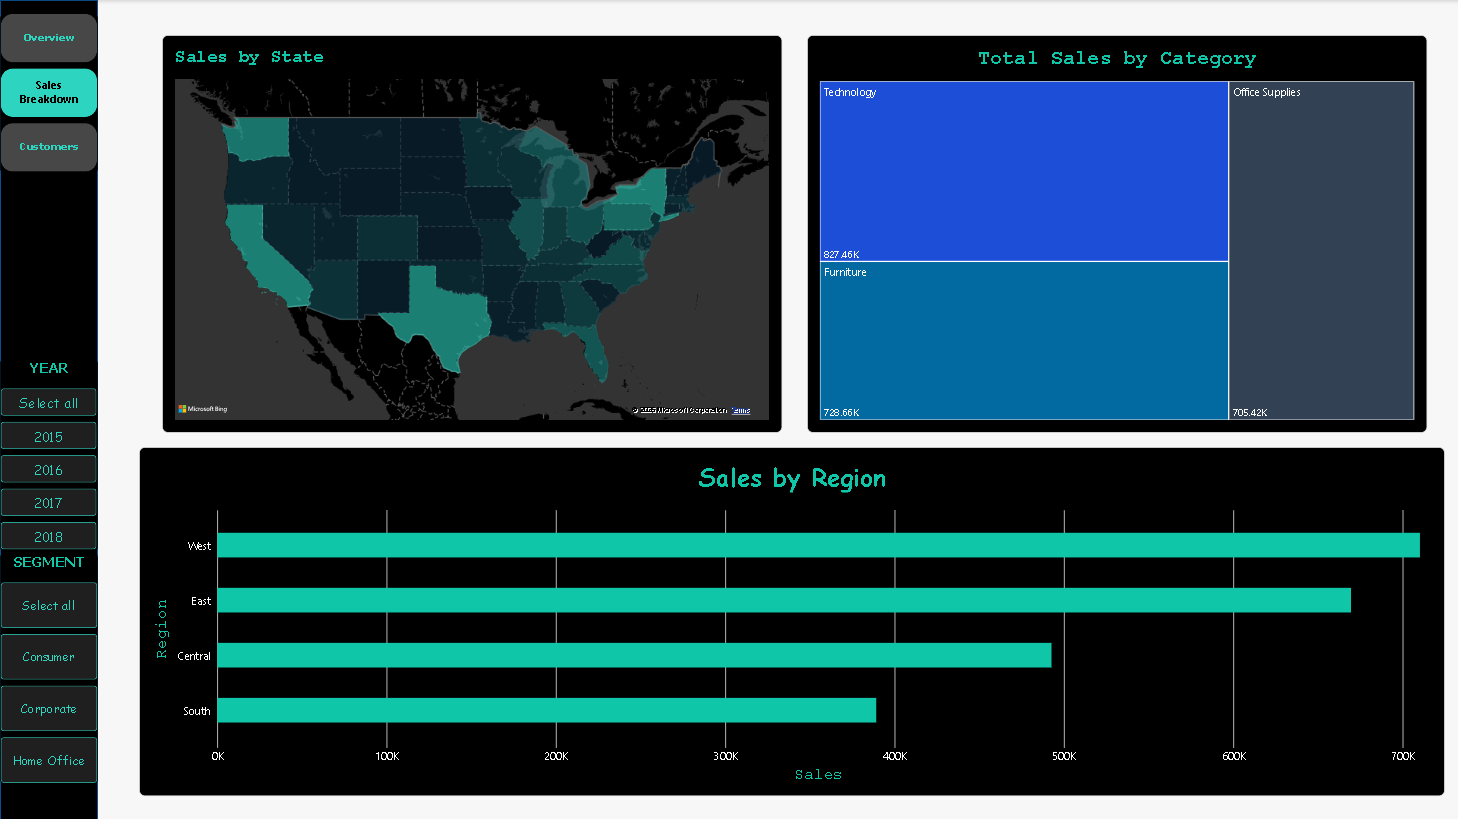

Layout of this report page (visuals, bound fields, positions):
{"tool":"powerbi","page":{"name":"Sales Breakdown","canvas":[1920,1080],"ordinal":1},"visuals":[{"type":"shape","box":[0,0,129.1,1080],"z":0},{"type":"barChart","title":"Sales by Region","fields":{"Category":["superstore_db superstore_sales.region"],"Y":["Sum(superstore_db superstore_sales.sales)"]},"box":[183.1,588.7,1720.1,459.7],"z":1000},{"type":"filledMap","title":"Sales by State","fields":{"Category":["superstore_db superstore_sales.state"]},"box":[213.4,46.1,816.6,524.2],"z":2000},{"type":"treemap","fields":{"Group":["superstore_db superstore_sales.category"],"Values":["Sum(superstore_db superstore_sales.sales)"]},"box":[1062.9,46.1,816.6,524.2],"z":3000},{"type":"pageNavigator","box":[0,17.2,129.1,212],"z":4001},{"type":"advancedSlicerVisual","title":"YEAR","fields":{"Values":["superstore_db superstore_sales.order_date.Variation.Date Hierarchy.Year"]},"box":[0,471.7,128.5,255.7],"z":4002},{"type":"advancedSlicerVisual","title":"SEGMENT","fields":{"Values":["superstore_db superstore_sales.segment"]},"box":[0,727.5,129.1,306.9],"z":4003}]}

Visuals, with their boxes in screenshot pixels (x1, y1, x2, y2), scaled from the page's 1920x1080 canvas onto the 1458x819 screenshot:
shape: locate(0, 0, 98, 818)
"Sales by Region" barChart: locate(139, 446, 1445, 795)
"Sales by State" filledMap: locate(162, 35, 782, 432)
treemap - superstore_db superstore_sales.category x Sum(superstore_db superstore_sales.sales): locate(807, 35, 1427, 432)
pageNavigator: locate(0, 13, 98, 174)
"YEAR" advancedSlicerVisual: locate(0, 358, 98, 552)
"SEGMENT" advancedSlicerVisual: locate(0, 552, 98, 784)
